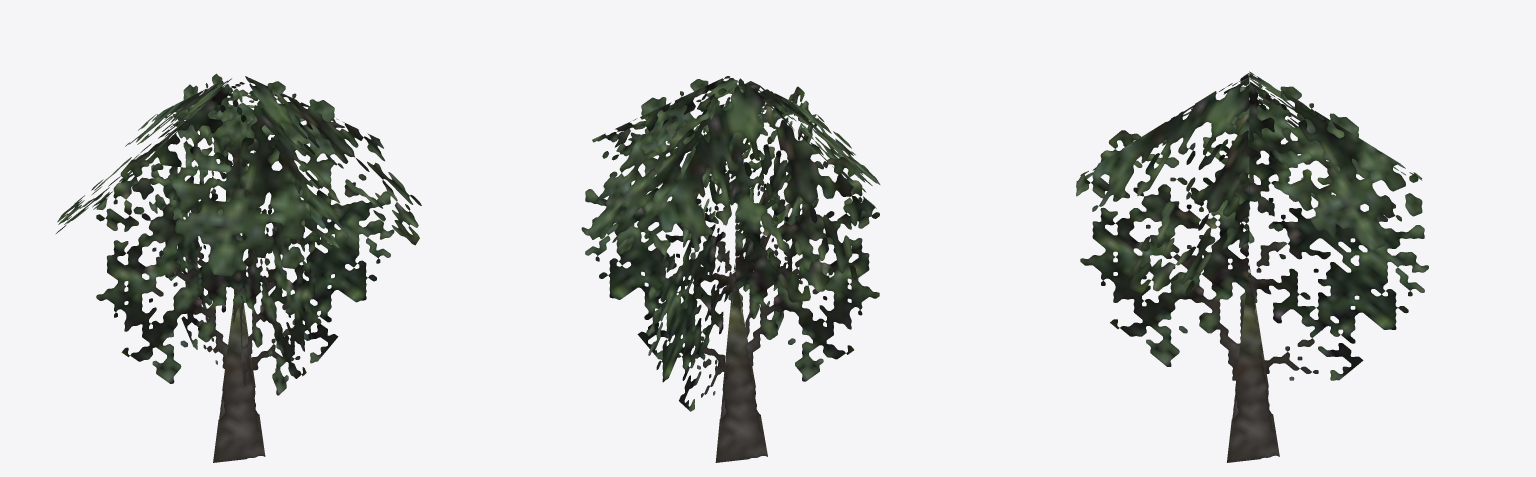
3 views of the same model, side by side, from view 1: azimuth 30°, elevation 25°; view 2: azimuth 150°, elevation 25°; view 3: azimuth 270°, elevation 25° (orthographic).
Visible parts, largest first — view 1: TC1_1; view 2: TC1_1; view 3: TC1_1.
Part boxes in pixels (x1=…): TC1_1: x1=56, y1=73, x2=421, y2=462; TC1_1: x1=581, y1=76, x2=880, y2=462; TC1_1: x1=1076, y1=71, x2=1428, y2=462.
Size of the model in its own units: 26.44 by 24.01 by 26.39.
Materials: 1 (1 with a texture image).
